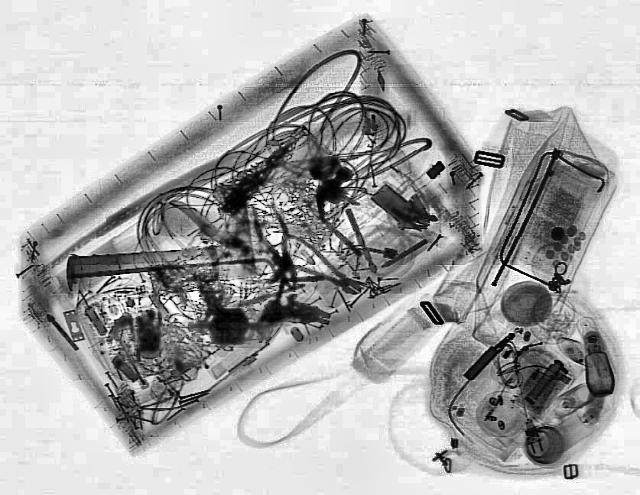Pliers: (266, 230, 374, 304), (244, 200, 302, 278)
